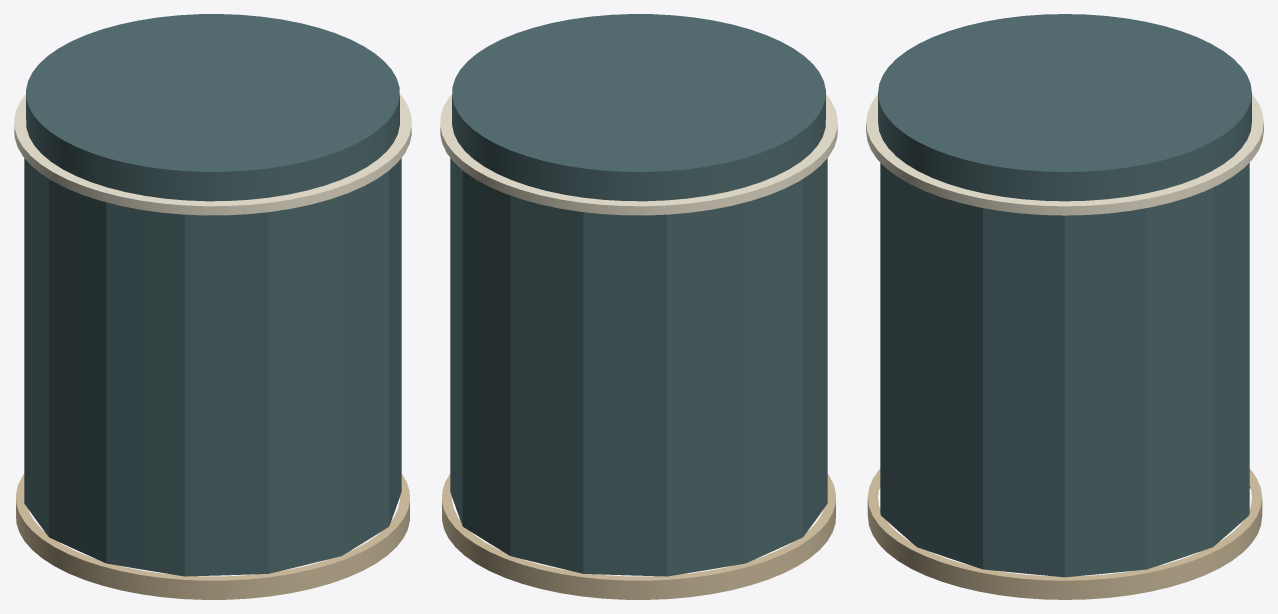
The model's file is KC32__AD_Arc_Pavilion_Drum.glb.
3 views of the same model, side by side, from view 1: azimuth 30°, elevation 25°; view 2: azimuth 150°, elevation 25°; view 3: azimuth 270°, elevation 25° (orthographic).
Visible parts, largest first — view 1: KC32_CORPS__AD_Arc_Pavilion_Drum, KC32_BRONZE__AD_Arc_Pavilion_Drum, KC32_LUMIERE__AD_Arc_Pavilion_Drum; view 2: KC32_CORPS__AD_Arc_Pavilion_Drum, KC32_BRONZE__AD_Arc_Pavilion_Drum, KC32_LUMIERE__AD_Arc_Pavilion_Drum; view 3: KC32_CORPS__AD_Arc_Pavilion_Drum, KC32_BRONZE__AD_Arc_Pavilion_Drum, KC32_LUMIERE__AD_Arc_Pavilion_Drum.
Part boxes in pixels (x1,y1,x2,y2): KC32_CORPS__AD_Arc_Pavilion_Drum: (24, 14, 401, 576); KC32_BRONZE__AD_Arc_Pavilion_Drum: (16, 474, 409, 599); KC32_LUMIERE__AD_Arc_Pavilion_Drum: (14, 94, 411, 215); KC32_CORPS__AD_Arc_Pavilion_Drum: (450, 14, 827, 576); KC32_BRONZE__AD_Arc_Pavilion_Drum: (442, 474, 835, 599); KC32_LUMIERE__AD_Arc_Pavilion_Drum: (440, 94, 837, 215); KC32_CORPS__AD_Arc_Pavilion_Drum: (878, 14, 1251, 577); KC32_BRONZE__AD_Arc_Pavilion_Drum: (867, 469, 1262, 599); KC32_LUMIERE__AD_Arc_Pavilion_Drum: (866, 94, 1263, 215).
Size of the model in its own units: 4.68 by 5.5 by 4.68.
